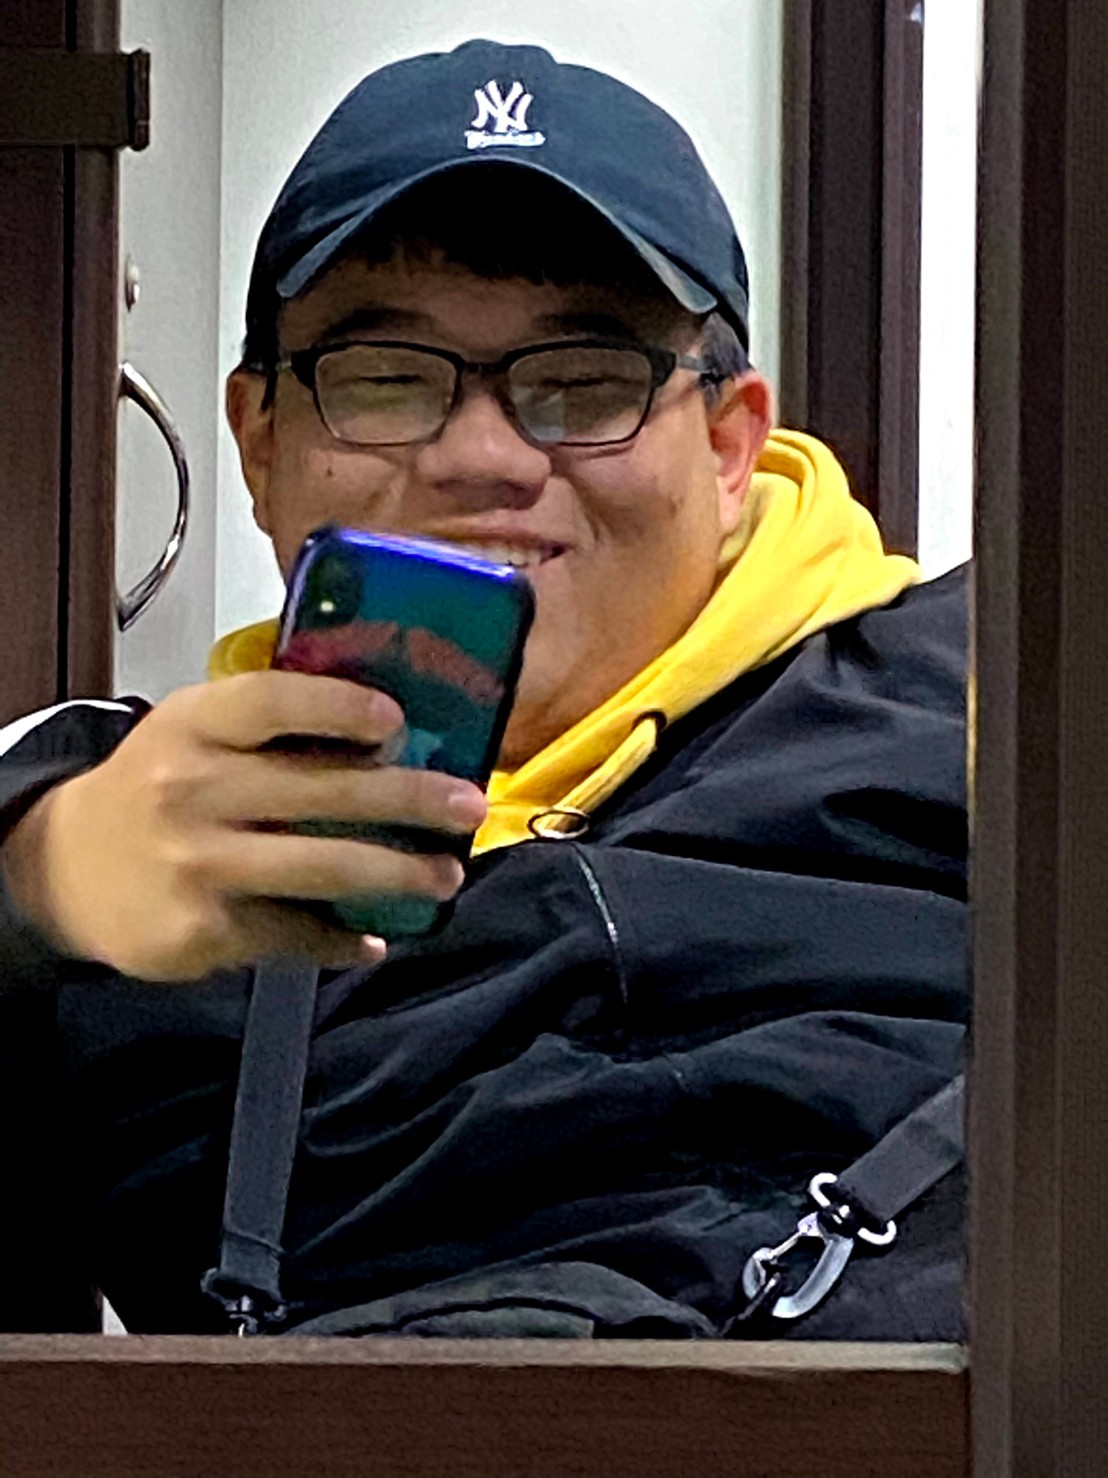people: (190, 78, 778, 1288)
